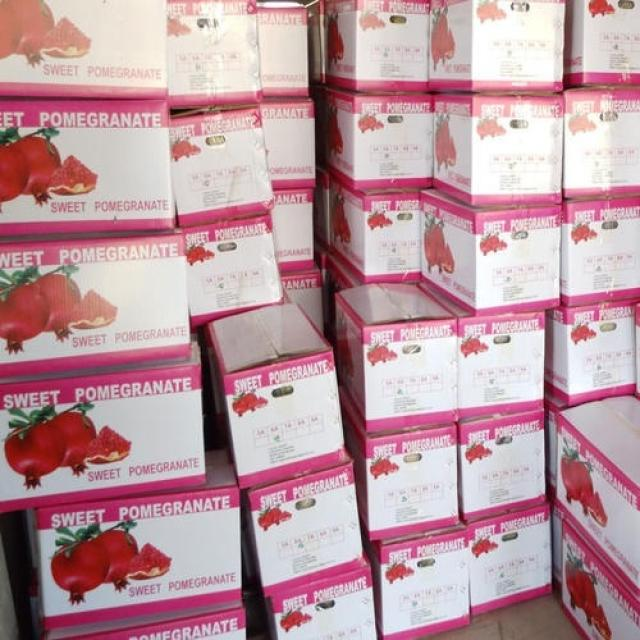box: (35, 447, 242, 630), (0, 334, 207, 511), (0, 231, 191, 383), (207, 301, 351, 490), (0, 95, 175, 240), (238, 462, 367, 607), (0, 0, 169, 95), (169, 104, 278, 230), (309, 82, 435, 189), (179, 210, 284, 319), (168, 1, 264, 109), (330, 174, 421, 282), (325, 0, 430, 92), (265, 563, 378, 639), (259, 96, 316, 189), (324, 253, 364, 383), (258, 1, 309, 97), (201, 322, 231, 447), (271, 189, 314, 275), (281, 261, 325, 335), (312, 164, 332, 252), (307, 0, 327, 84), (313, 236, 331, 324), (245, 599, 273, 638)
